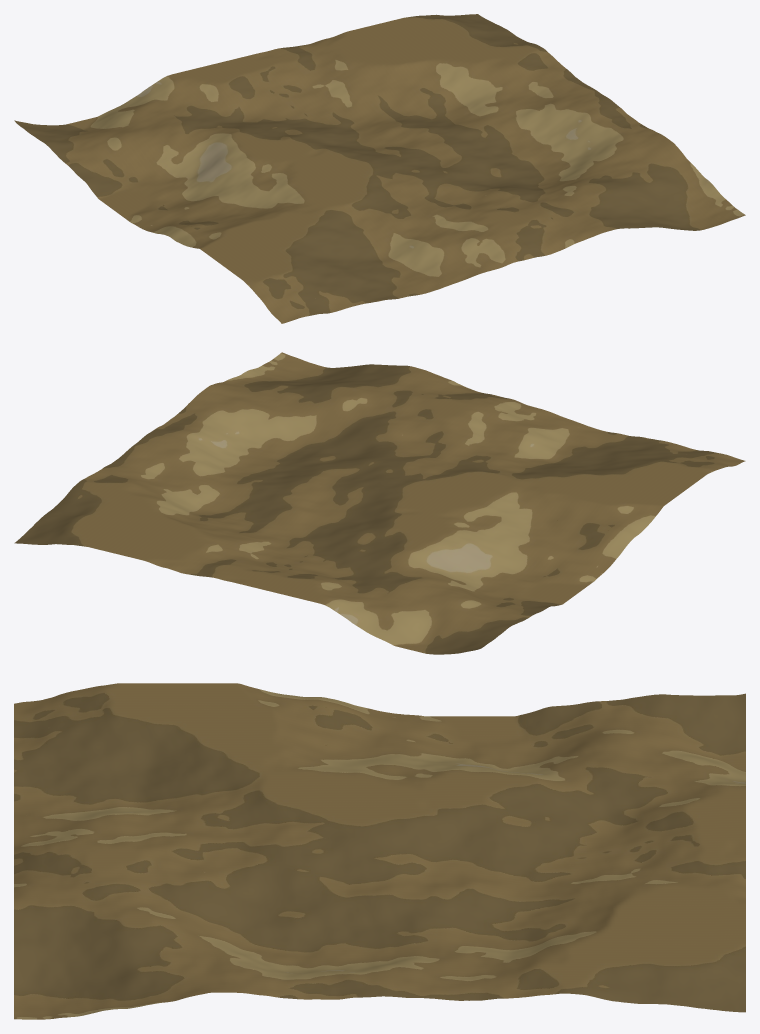
The model's file is basem.gltf.
The picture shows the model from 3 angles, top to bottom: view 1: azimuth 30°, elevation 25°; view 2: azimuth 150°, elevation 25°; view 3: azimuth 270°, elevation 25°; orthographic projection. The views are drawn at different scales.
Visible parts, largest first — view 1: Landscape.1; view 2: Landscape.1; view 3: Landscape.1.
Boxes of the visible parts, <box> form: Landscape.1: <box>14,14,745,323</box>; Landscape.1: <box>14,352,745,654</box>; Landscape.1: <box>14,683,745,1019</box>.
Bounding box in the file's own units: 1000 × 50 × 1000.
1 material, 1 textured.
